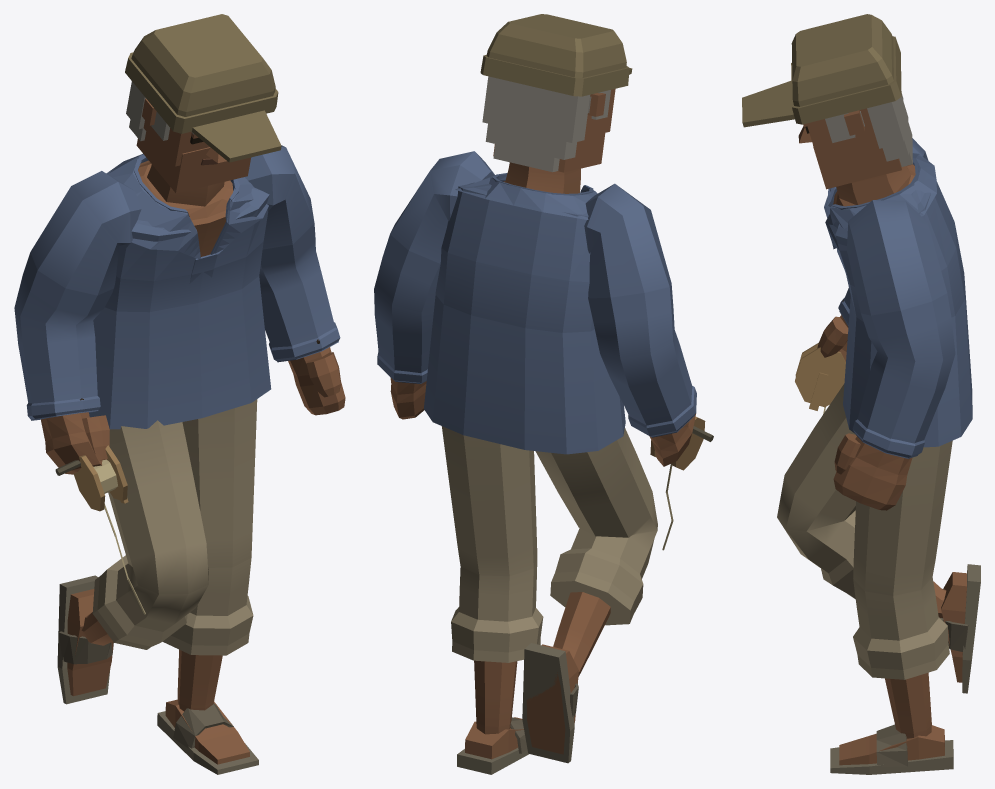
File: hanga-roa-fisherman-e56812__walk2.glb
3 renders of one model, left to right at view 1: azimuth 30°, elevation 25°; view 2: azimuth 150°, elevation 25°; view 3: azimuth 270°, elevation 25°, orthographic. The views are drawn at different scales.
Visible parts, largest first — view 1: hanga-roa-fisherman-e56812__walk2; view 2: hanga-roa-fisherman-e56812__walk2; view 3: hanga-roa-fisherman-e56812__walk2.
Boxes of the visible parts, <box> form: hanga-roa-fisherman-e56812__walk2: <box>14,14,345,774</box>; hanga-roa-fisherman-e56812__walk2: <box>374,14,713,774</box>; hanga-roa-fisherman-e56812__walk2: <box>742,14,980,774</box>.
Size of the model in its own units: 0.7609 by 1.71 by 0.5143.
